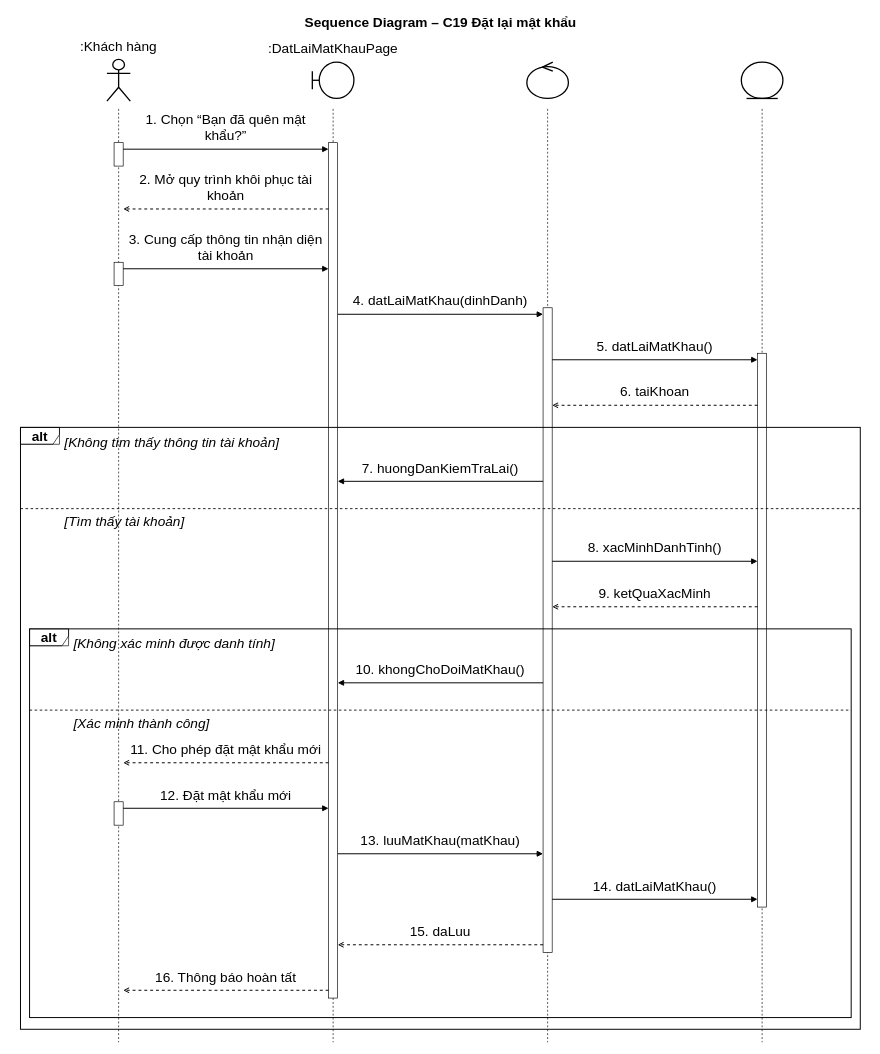
This 880x1054 diagram has some shape labels left out. The box of each missing label's shape, as (x1, y1, x2, y2) in pixels:
:DatLaiMatKhauController: (526, 61, 569, 99)
:TaiKhoanApple: (740, 61, 783, 99)
